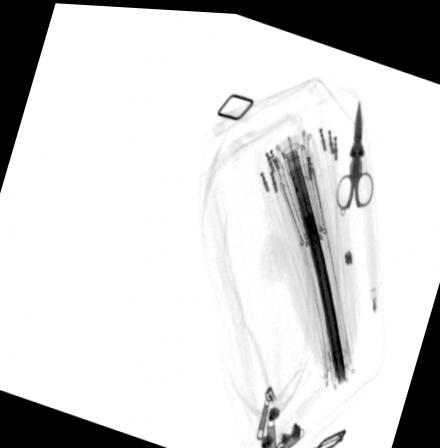Scissors: (335, 97, 375, 205)
